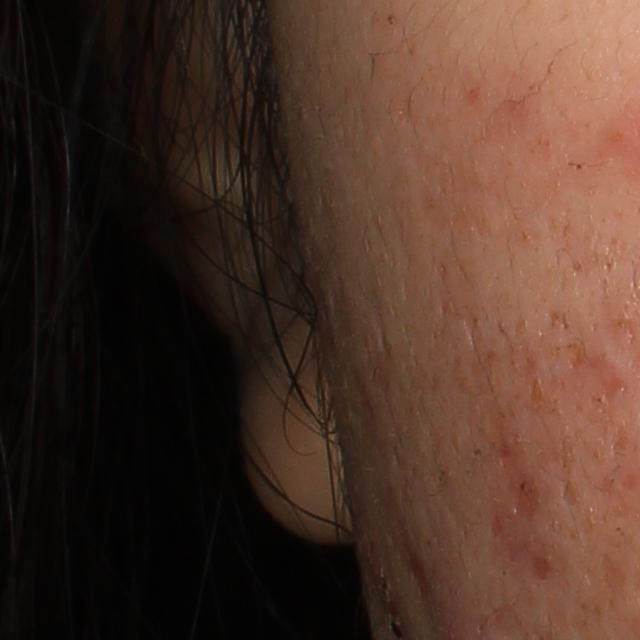atrophic_scar: (565, 348, 629, 400), (511, 474, 543, 522), (528, 557, 561, 586), (603, 550, 623, 593), (560, 478, 580, 509)
